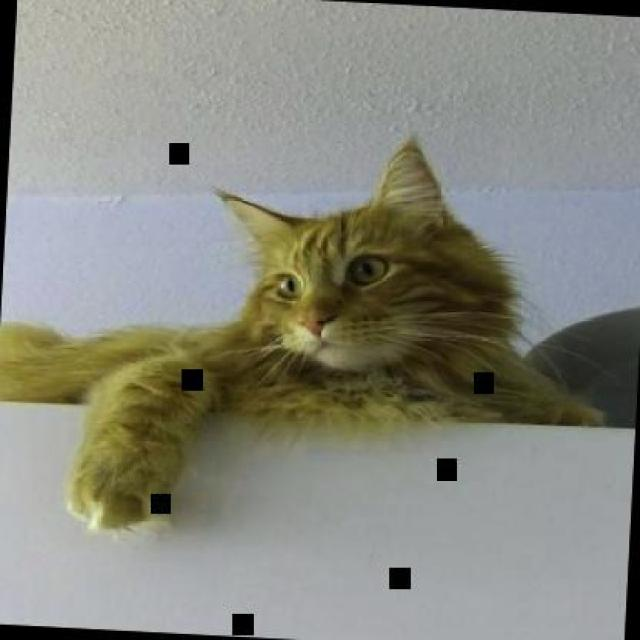cat: (0, 121, 612, 560)
